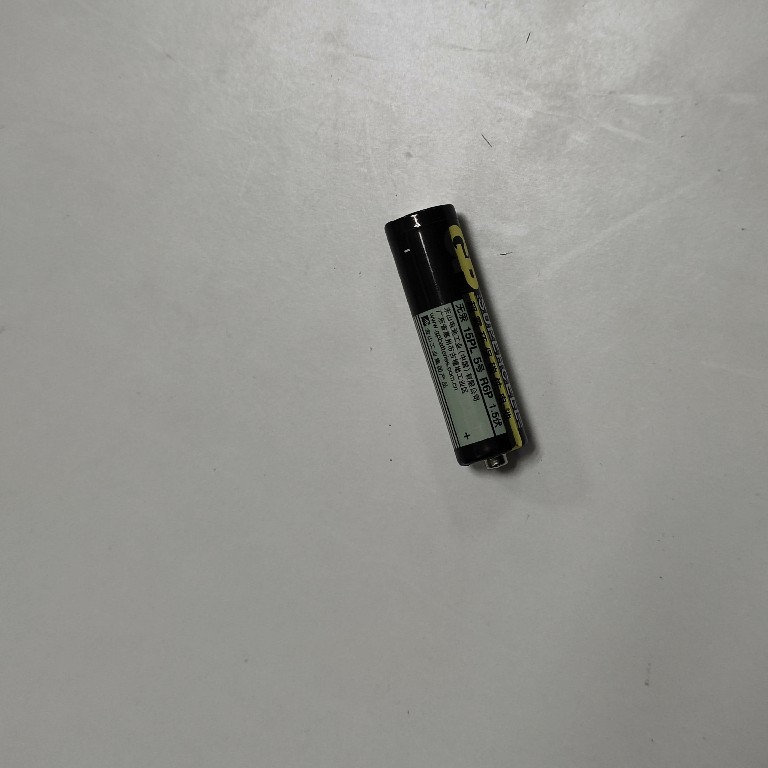charge: (380, 199, 531, 473)
